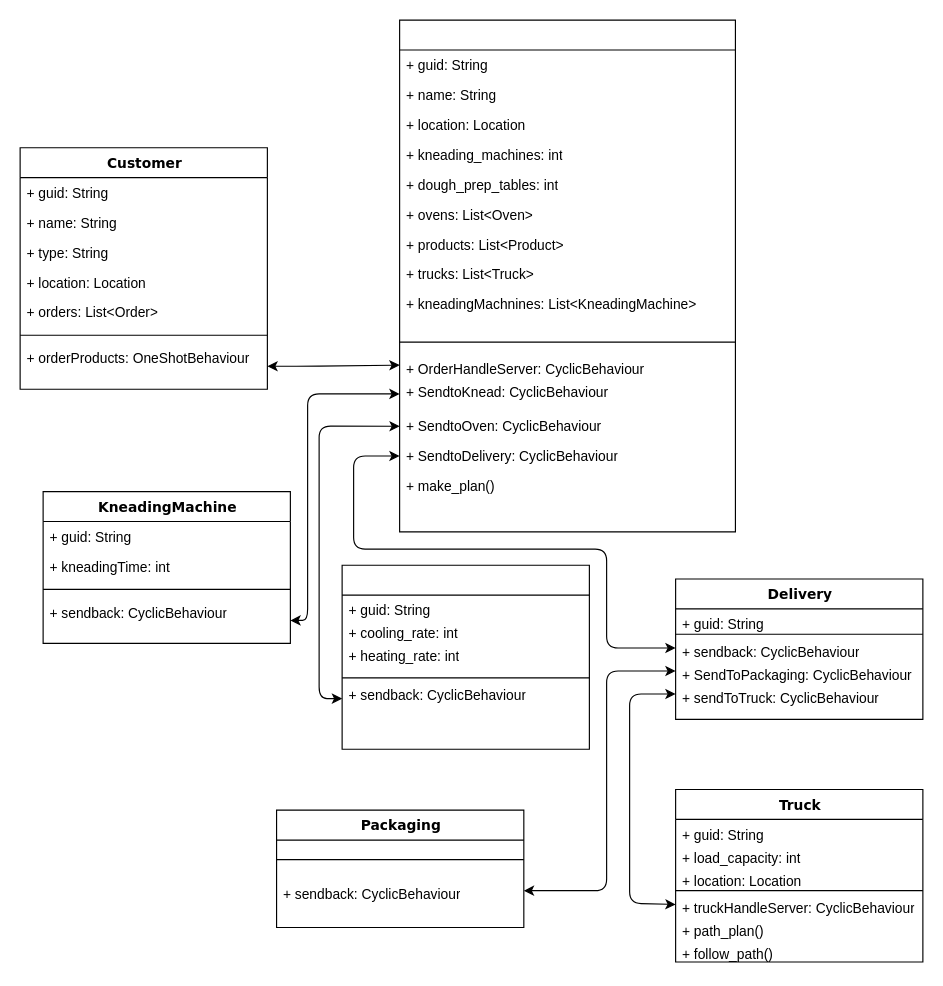
Image size: 943x986. Some labels were removed from this diagram. The shapes that lost their labels are listed below. From the top down, each one's box as (x1, y1, x2, y2) in pixels, then its label:
(398, 19, 735, 532): Bakery
(341, 564, 589, 749): Oven
